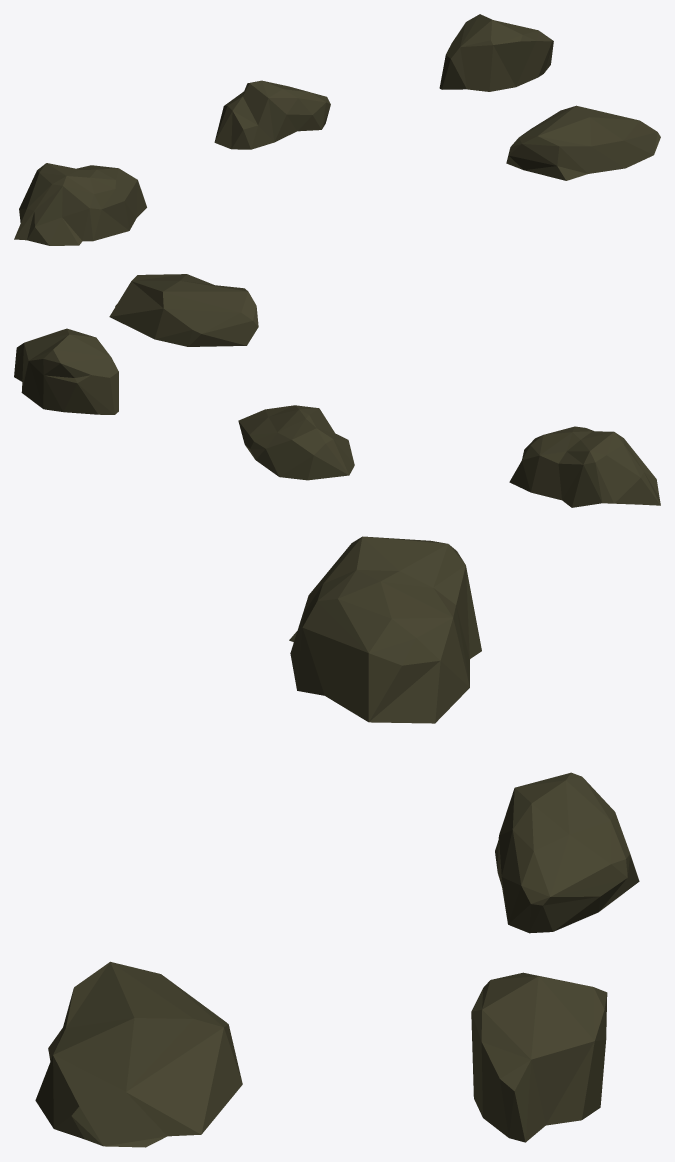
The model's file is ADDON_STONES_COUPLESTONES_01_230P.OBJ.
The picture shows the model from 3 angles, top to bottom: view 1: azimuth 30°, elevation 25°; view 2: azimuth 150°, elevation 25°; view 3: azimuth 270°, elevation 25°; orthographic projection. The views are drawn at different scales.
Parts seen in each view (by area): view 1: ADDON_STONES_COUPLESTONES_01_230P; view 2: ADDON_STONES_COUPLESTONES_01_230P; view 3: ADDON_STONES_COUPLESTONES_01_230P.
Part boxes in pixels (x1=…): ADDON_STONES_COUPLESTONES_01_230P: x1=14, y1=14, x2=660, y2=245; ADDON_STONES_COUPLESTONES_01_230P: x1=14, y1=274, x2=660, y2=507; ADDON_STONES_COUPLESTONES_01_230P: x1=35, y1=536, x2=639, y2=1147.
Bounding box in the file's own units: 10.81 × 1.15 × 4.92.
